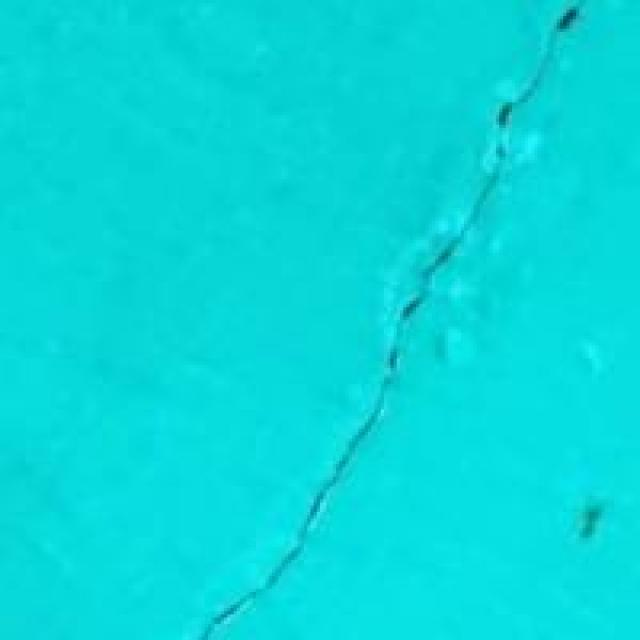crack: (176, 0, 582, 637)
